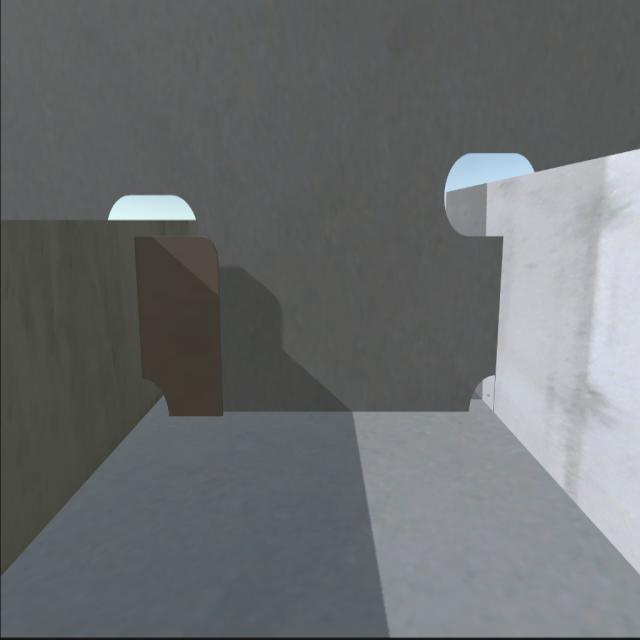fillet_hole: (136, 376, 174, 426), (459, 372, 498, 418)
fillet_yong_jeop_jang: (168, 404, 468, 424)
longi_yong_jeop_jang: (126, 240, 151, 376), (486, 235, 507, 375)
plate_CP05: (139, 238, 225, 418)
